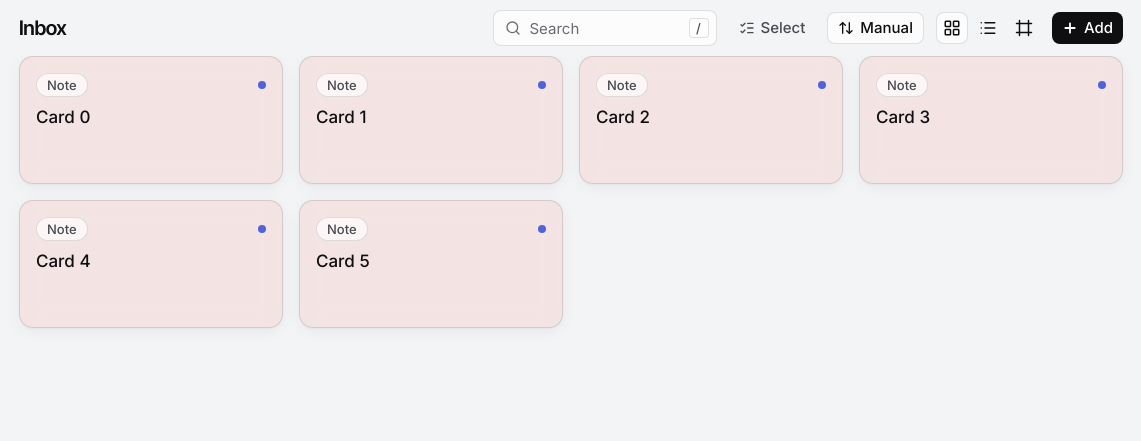
Test: Board selection › selection mode: a plain click toggles, Select all selects every card
Click the button "Select".
click(772, 28)  # box [728, 12, 815, 44]
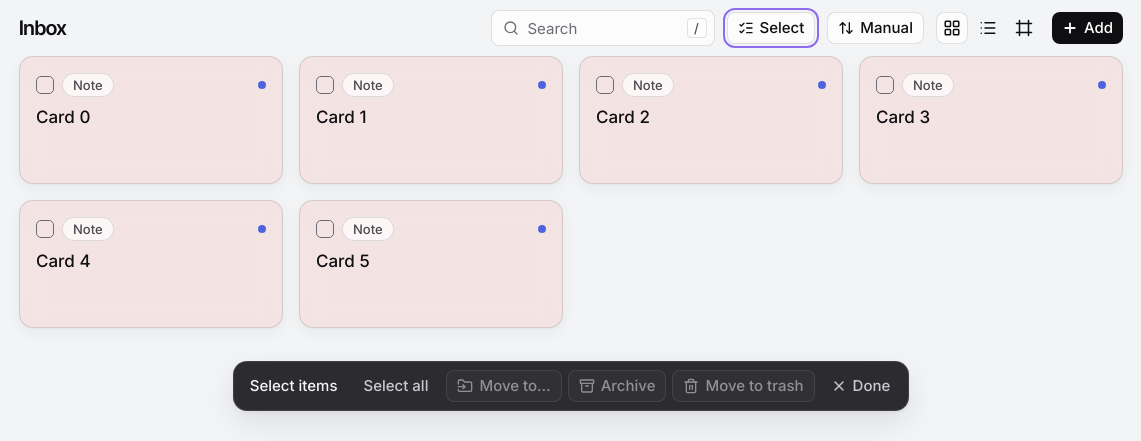
Click the button named "Open Card 0".
click(151, 120)  # box [20, 57, 282, 183]
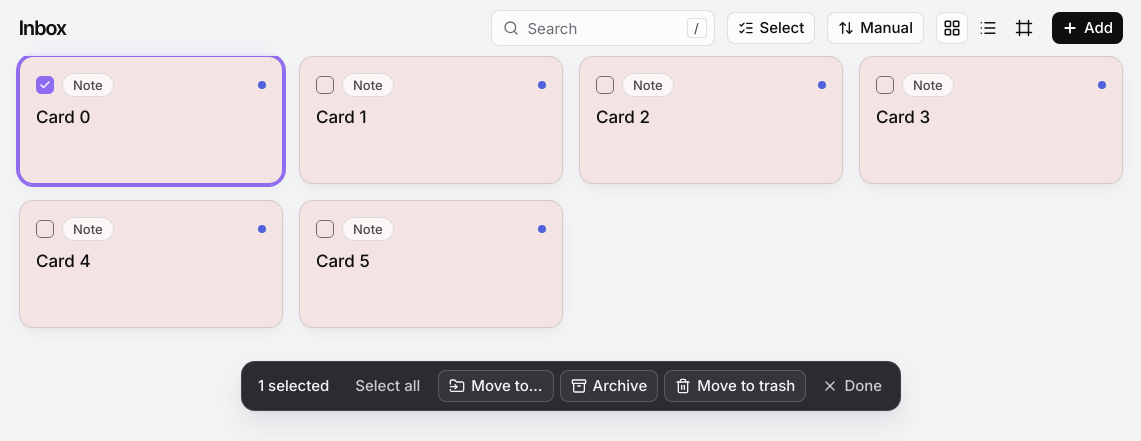
Expected: the text "1 selected" is shown, [258, 376, 329, 395]
Click the button "Select all".
click(388, 386)  # box [343, 370, 432, 402]
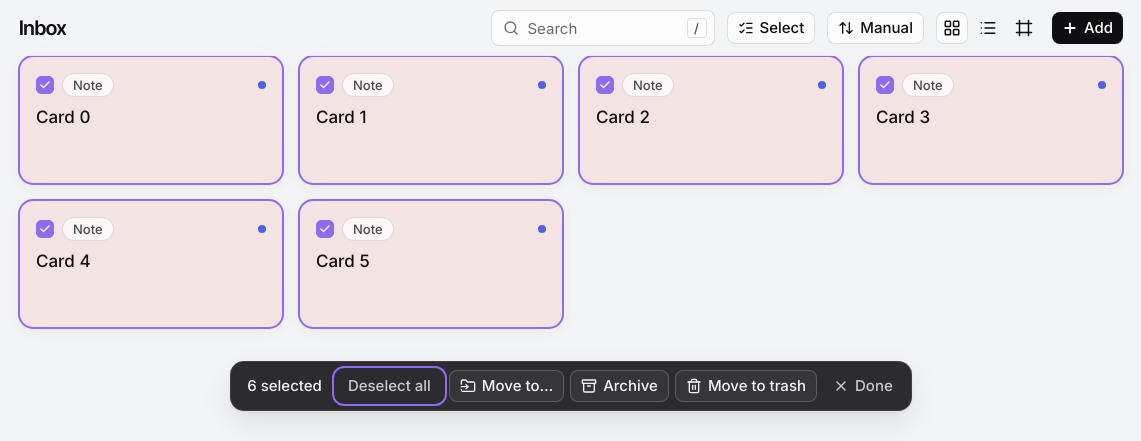
Click the button "Deselect all".
click(389, 386)  # box [336, 370, 443, 402]
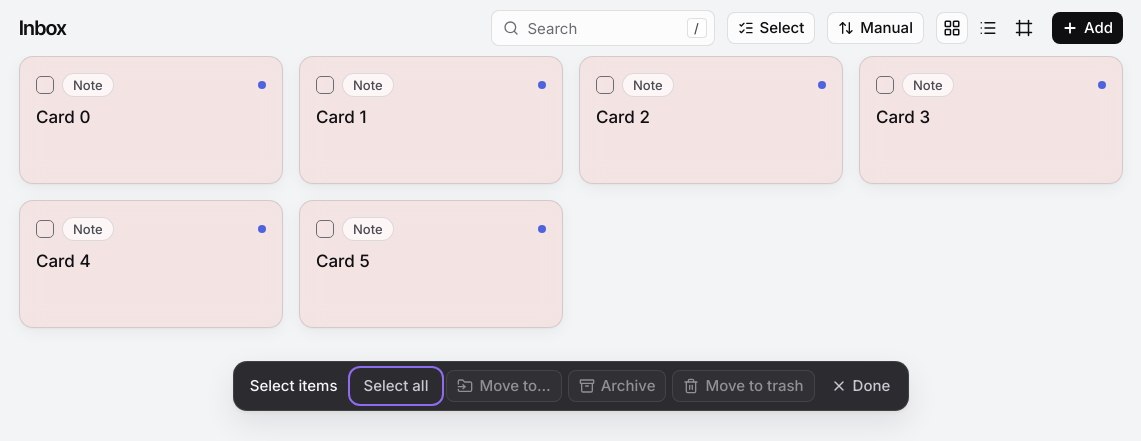
Click the button "Done".
click(860, 386)  # box [821, 370, 900, 402]
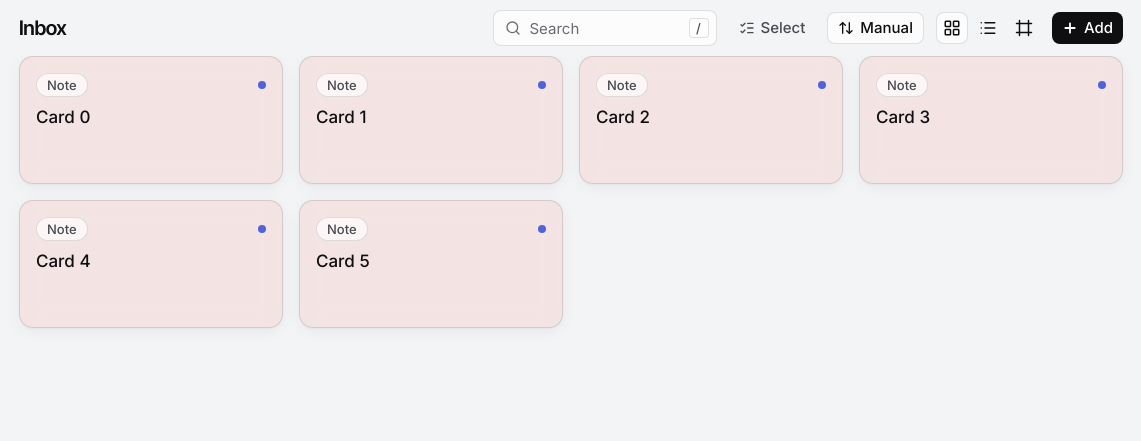
Expected: the element "Selection" is gone
